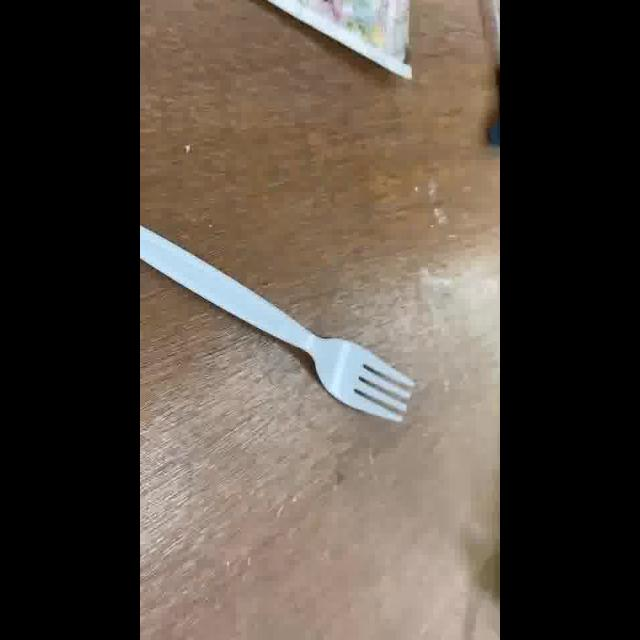plastic_cultery: (140, 218, 420, 428)
